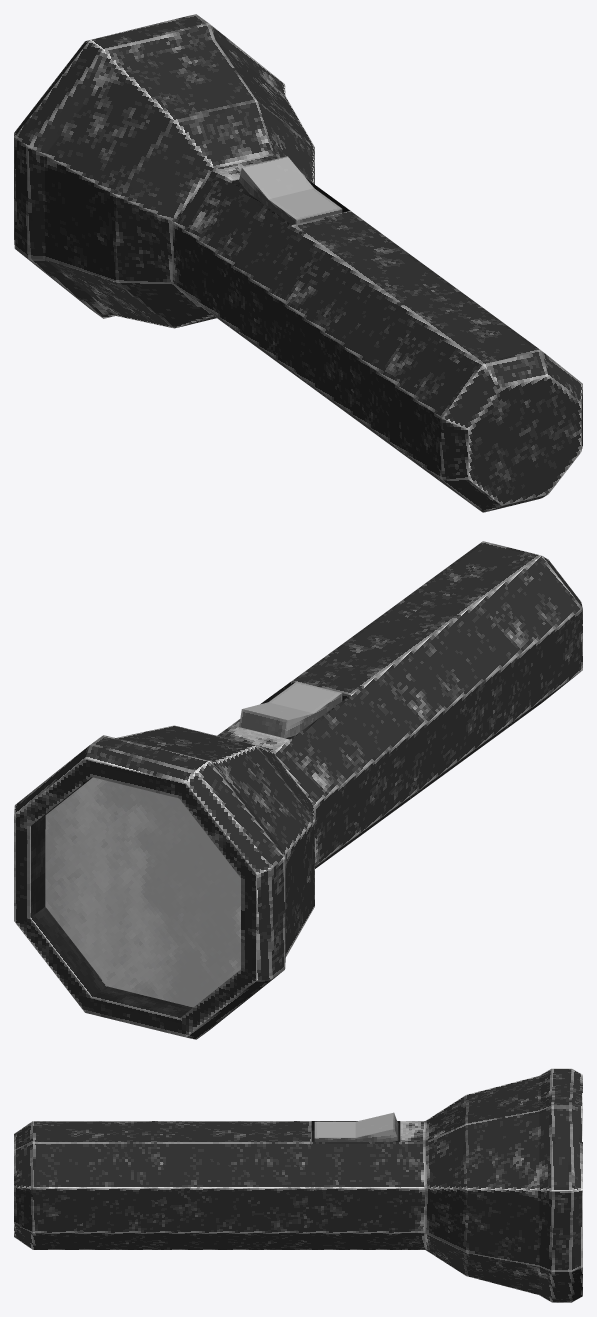
File: Flashlight.glb
The picture shows the model from 3 angles, top to bottom: view 1: azimuth 30°, elevation 25°; view 2: azimuth 150°, elevation 25°; view 3: azimuth 270°, elevation 25°; orthographic projection. The views are drawn at different scales.
Parts seen in each view (by area): view 1: Cylinder, Cube; view 2: Cylinder, Cube; view 3: Cylinder, Cube.
Part boxes in pixels (<box>): Cylinder: <box>14,14,582,512</box>; Cube: <box>239,156,342,224</box>; Cylinder: <box>14,541,582,1039</box>; Cube: <box>239,682,342,738</box>; Cylinder: <box>14,1068,582,1302</box>; Cube: <box>314,1112,398,1141</box>.
Size of the model in its own units: 0.2711 by 0.2711 by 0.7117.
1 material, 1 textured.
